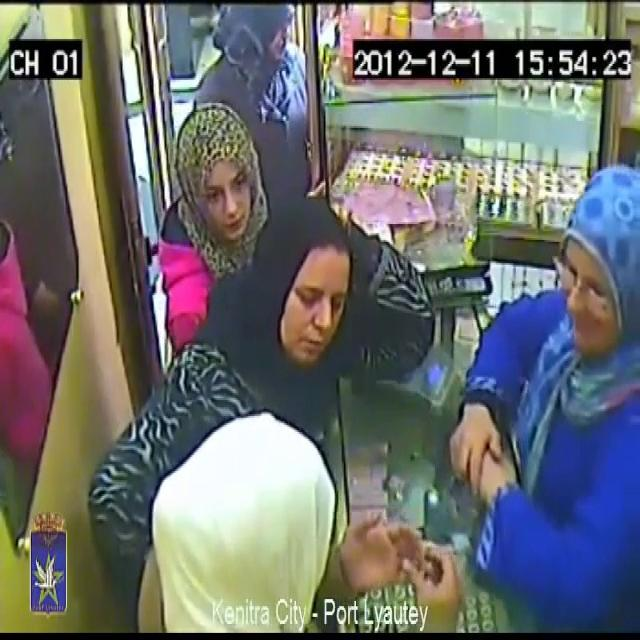Product: (419, 533, 445, 584)
normal: (456, 130, 640, 640), (246, 195, 378, 412), (153, 77, 255, 299), (223, 0, 323, 188)
shoplifting: (152, 413, 448, 640)
